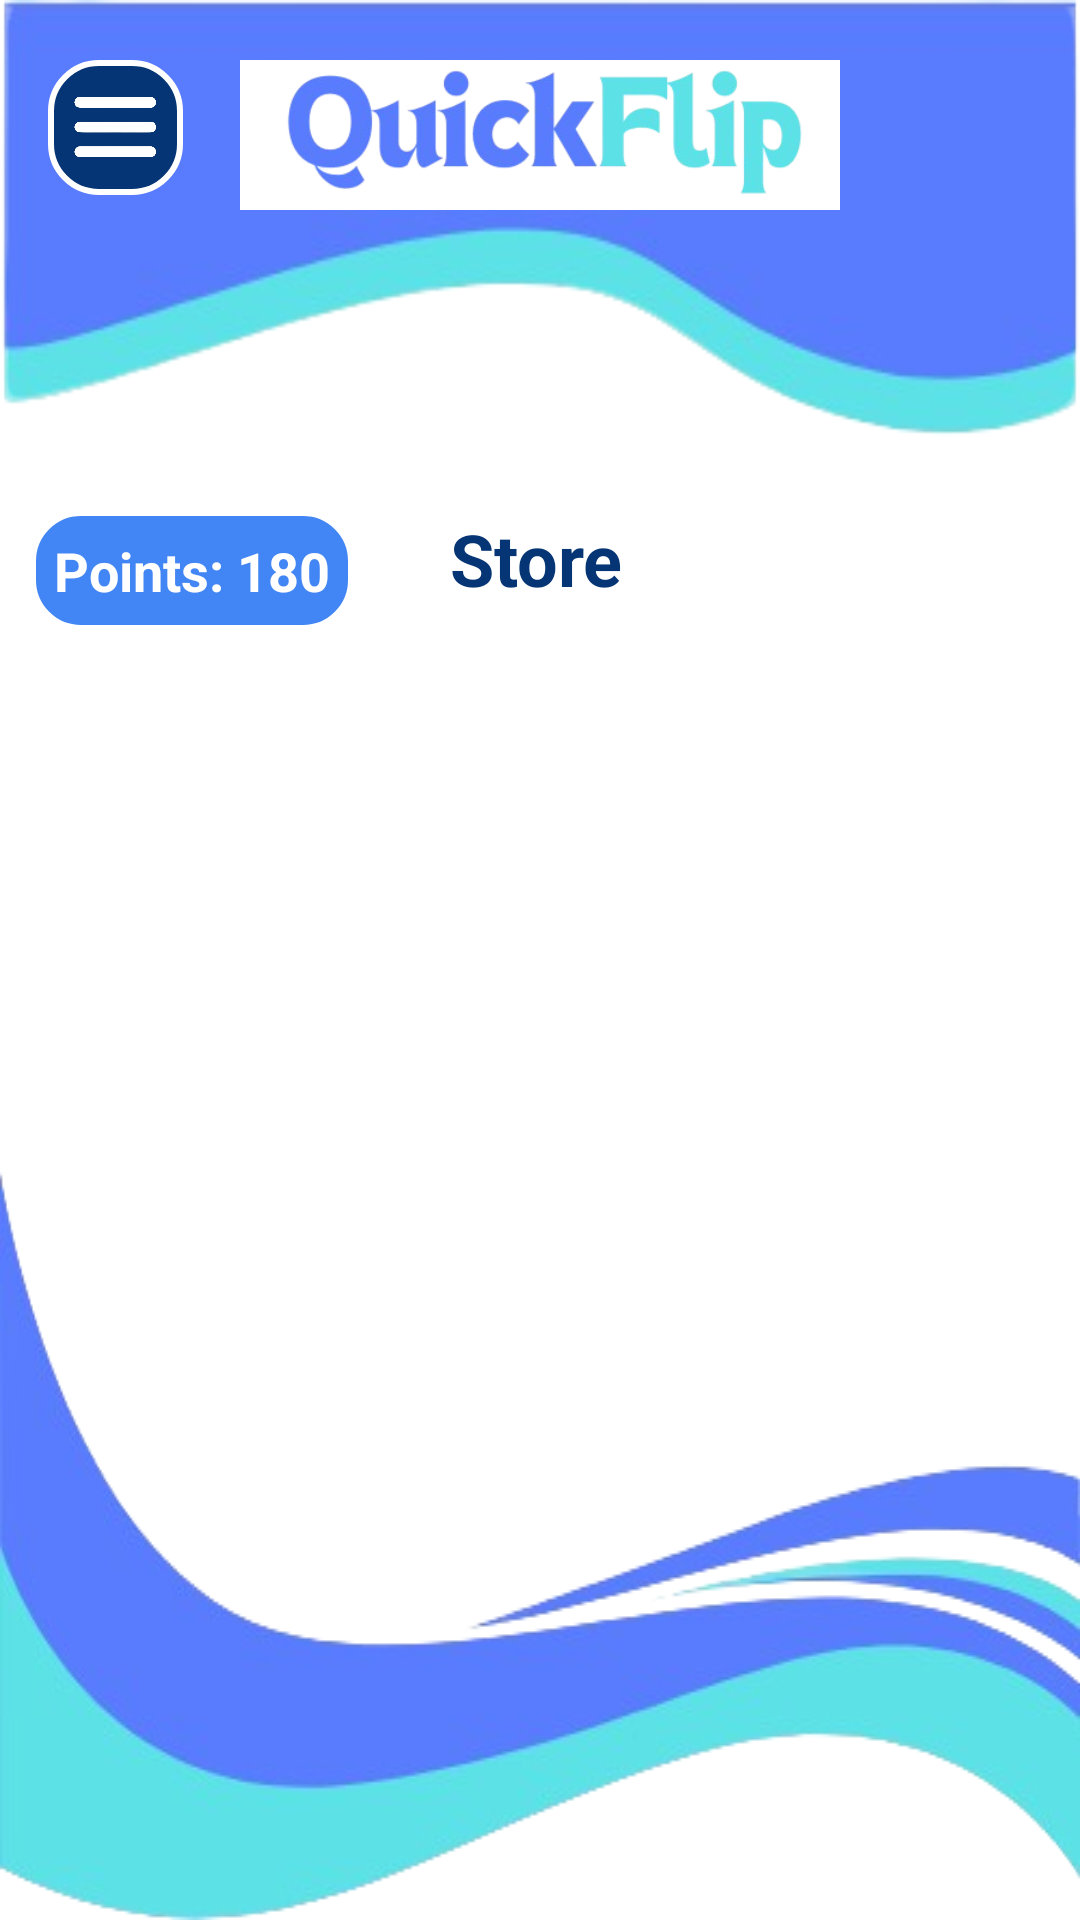

Named icons in this screenshot (1080 x 1920) and their centers, (x=x, y=y):
Drawer: (x=115, y=127)
